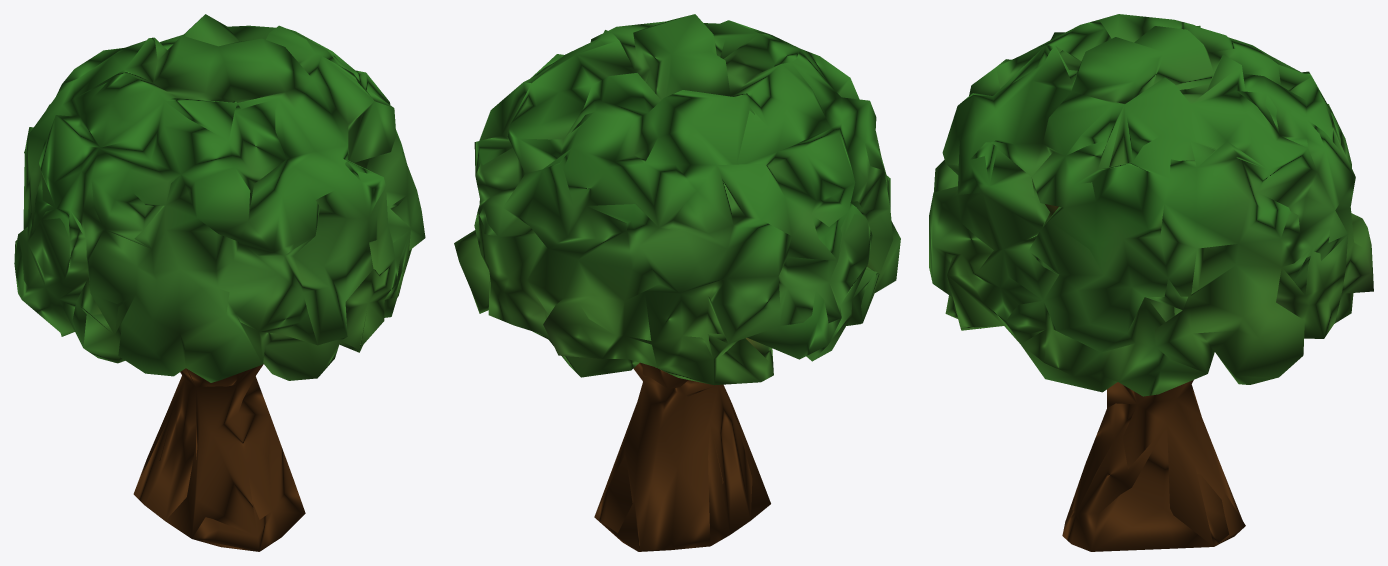
File: gen3d-olive-tree-lod0.glb
The picture shows the model from 3 angles, left to right: view 1: azimuth 30°, elevation 25°; view 2: azimuth 150°, elevation 25°; view 3: azimuth 270°, elevation 25°; orthographic projection. The views are drawn at different scales.
Parts seen in each view (by area): view 1: part_0; view 2: part_0; view 3: part_0.
Boxes of the visible parts, x1,y1,x2,y2 form: part_0: (14,14,425,551); part_0: (454,14,900,551); part_0: (929,14,1373,551).
Bounding box in the file's own units: 0.7793 × 0.9915 × 0.8033.
